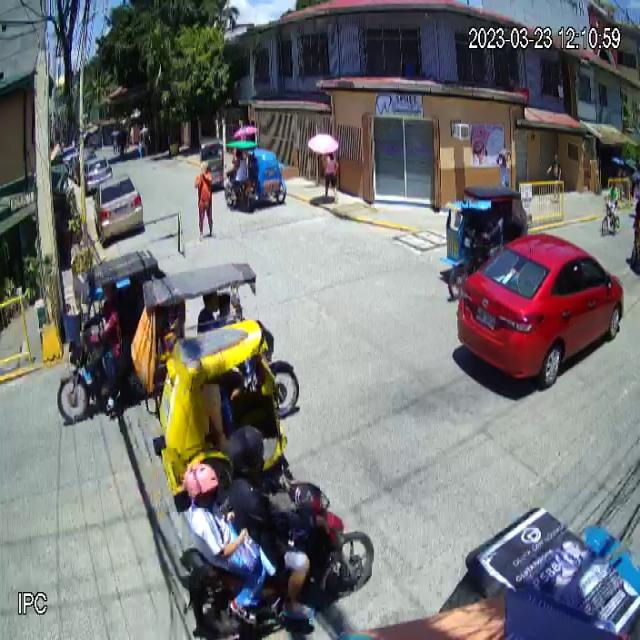Car: (457, 231, 625, 388), (94, 174, 144, 242)
Motorcycle: (183, 482, 374, 640)
Tricycle: (140, 262, 300, 496), (56, 248, 164, 424), (225, 141, 287, 212)
